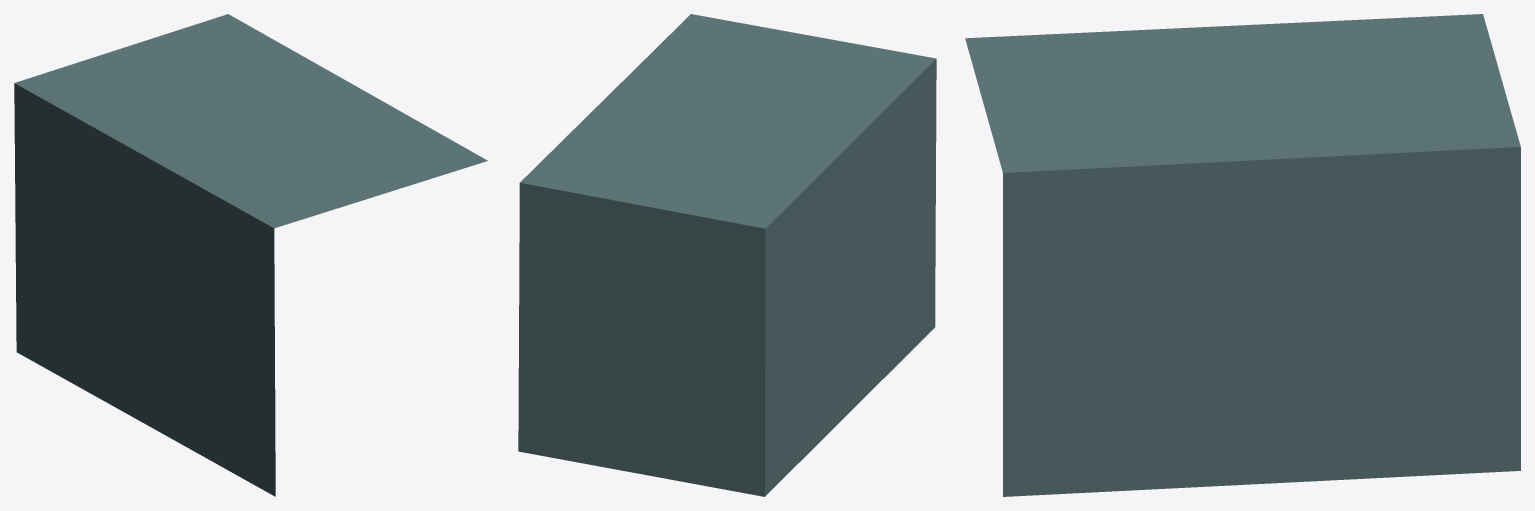
The model's file is terminal-29---121_-18.glb.
3 views of the same model, side by side, from view 1: azimuth 30°, elevation 25°; view 2: azimuth 150°, elevation 25°; view 3: azimuth 270°, elevation 25° (orthographic). The views are drawn at different scales.
Visible parts, largest first — view 1: measured-industrial; view 2: measured-industrial; view 3: measured-industrial.
Part boxes in pixels (left/top/right/bottom): measured-industrial: left=14, top=14, right=487, bottom=496; measured-industrial: left=518, top=14, right=936, bottom=496; measured-industrial: left=965, top=14, right=1520, bottom=496.
Bounding box in the file's own units: 2.94 × 2.76 × 4.27.
